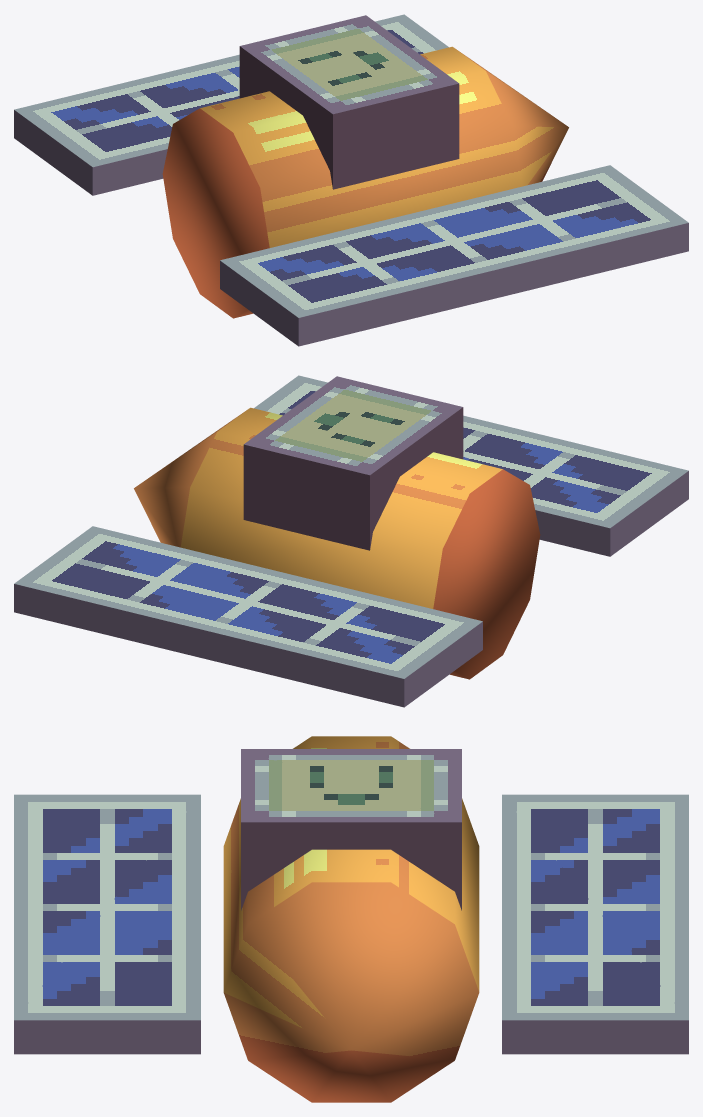
Rendered from satellite.glb.
3 renders of one model, top to bottom at view 1: azimuth 30°, elevation 25°; view 2: azimuth 150°, elevation 25°; view 3: azimuth 270°, elevation 25°, orthographic. The views are drawn at different scales.
Parts seen in each view (by area): view 1: Cylinder; view 2: Cylinder; view 3: Cylinder.
Part boxes in pixels (left/top/right/bottom): Cylinder: left=14, top=14, right=688, bottom=346; Cylinder: left=14, top=375, right=688, bottom=707; Cylinder: left=14, top=736, right=688, bottom=1102.
Bounding box in the file's own units: 4.42 × 2.14 × 5.28.
1 material, 1 textured.
